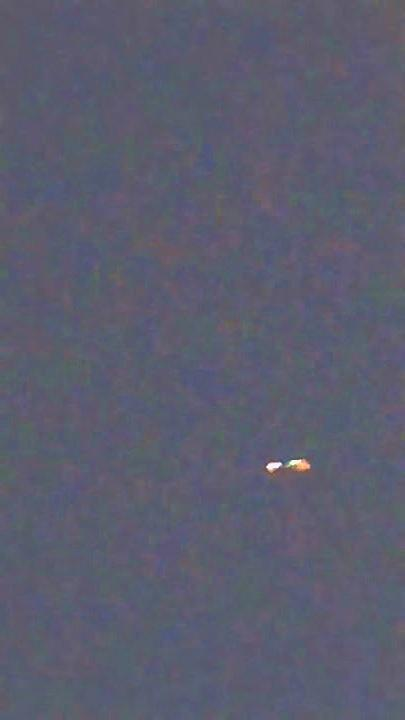Plane: (239, 444, 326, 478)
